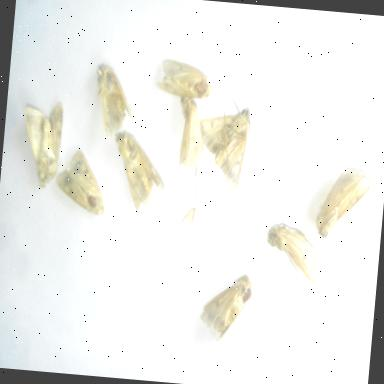abw: (190, 90, 258, 196), (104, 124, 174, 226), (310, 161, 376, 248), (260, 219, 334, 292), (194, 268, 259, 350), (15, 96, 67, 196), (48, 144, 113, 224), (88, 60, 142, 145), (169, 90, 214, 175), (152, 55, 218, 106)
